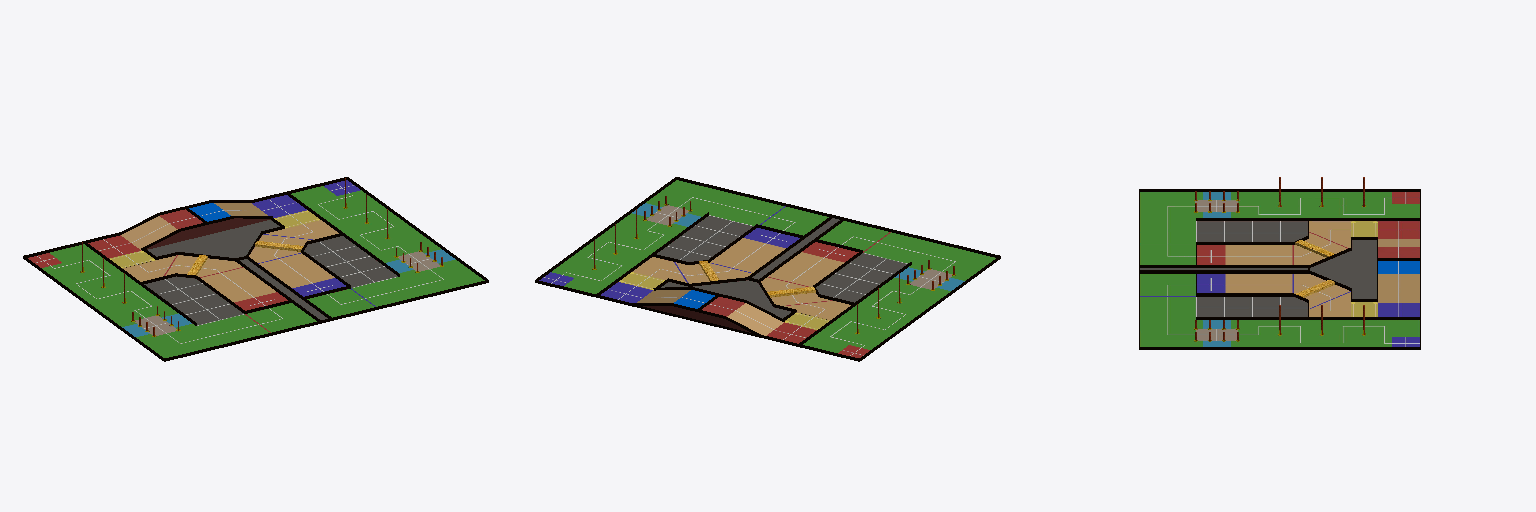
The picture shows the model from 3 angles: view 1: azimuth 30°, elevation 25°; view 2: azimuth 150°, elevation 25°; view 3: azimuth 270°, elevation 25°; orthographic projection.
Visible parts, largest first — view 1: FloorPlane_Plane, Fences_Cube.002, Bridge_Cube.030; view 2: FloorPlane_Plane, Fences_Cube.002, Bridge_Cube.030; view 3: FloorPlane_Plane, Fences_Cube.002, Bridge_Cube.030.
Part boxes in pixels (x1,y1,x2,y2): FloorPlane_Plane: (28,180,484,357); Fences_Cube.002: (23,177,488,361); Bridge_Cube.030: (121,203,270,250); FloorPlane_Plane: (539,180,995,357); Fences_Cube.002: (535,177,1000,361); Bridge_Cube.030: (637,290,783,335); FloorPlane_Plane: (1140,192,1419,346); Fences_Cube.002: (1139,189,1420,349); Bridge_Cube.030: (1377,239,1419,302).
Size of the model in its own units: 13.4 by 1.15 by 10.1.
Materials: 7 (5 with a texture image).